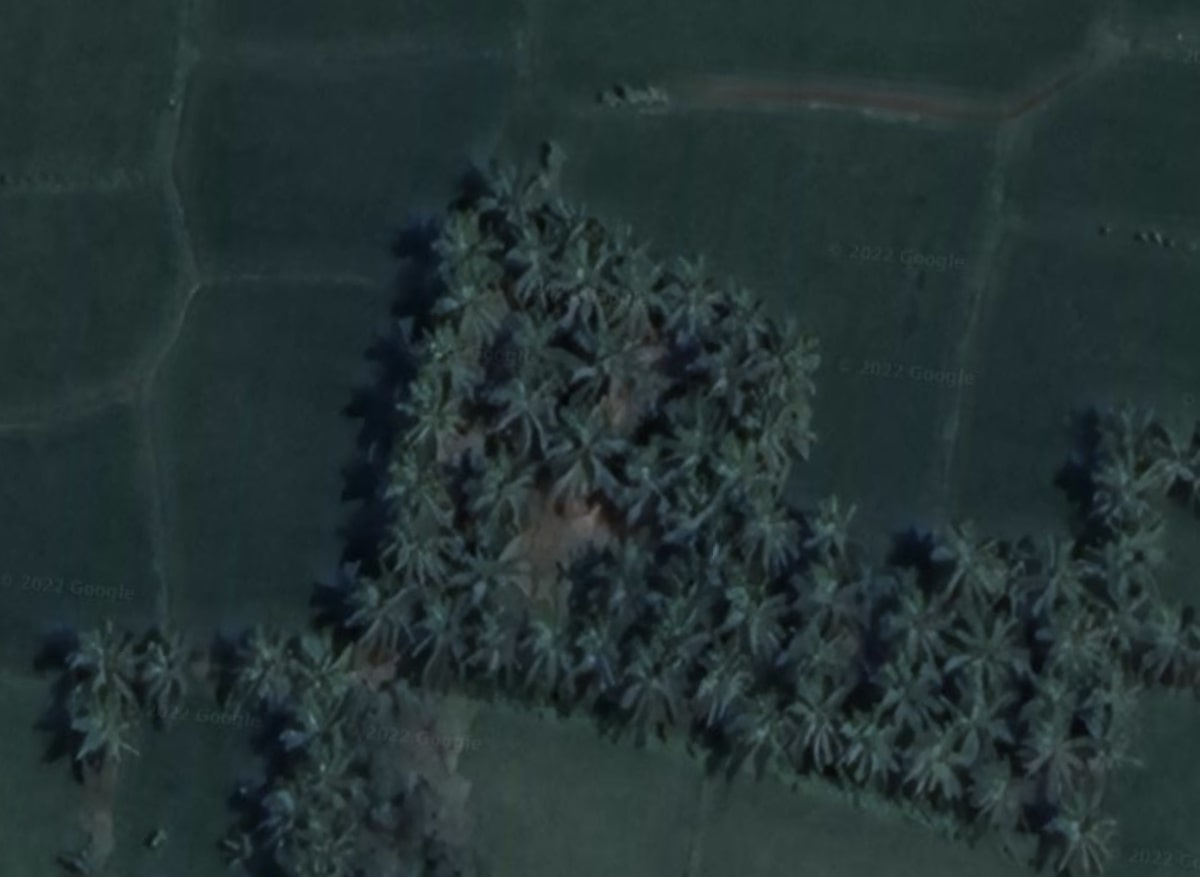coconut: (587, 622, 676, 739), (885, 726, 981, 824), (1008, 530, 1095, 630), (1032, 793, 1133, 876), (922, 517, 1006, 613), (271, 615, 363, 700), (545, 409, 626, 503), (268, 700, 370, 773), (341, 571, 424, 657), (642, 251, 719, 343), (1007, 712, 1093, 794), (777, 676, 844, 779), (672, 642, 751, 729), (372, 447, 461, 524), (126, 628, 199, 721), (731, 486, 806, 576), (1071, 455, 1162, 529), (820, 707, 897, 794), (862, 658, 947, 736), (412, 277, 498, 354), (1127, 601, 1200, 688), (1027, 607, 1099, 695), (562, 607, 622, 706), (371, 518, 454, 589), (222, 629, 289, 716), (452, 452, 529, 527), (506, 610, 572, 697), (1081, 402, 1160, 474), (461, 163, 543, 231), (488, 364, 556, 442), (1080, 574, 1147, 652), (390, 371, 458, 446), (410, 585, 470, 669), (719, 283, 786, 356), (456, 605, 518, 681), (420, 216, 489, 275), (555, 250, 604, 327)
